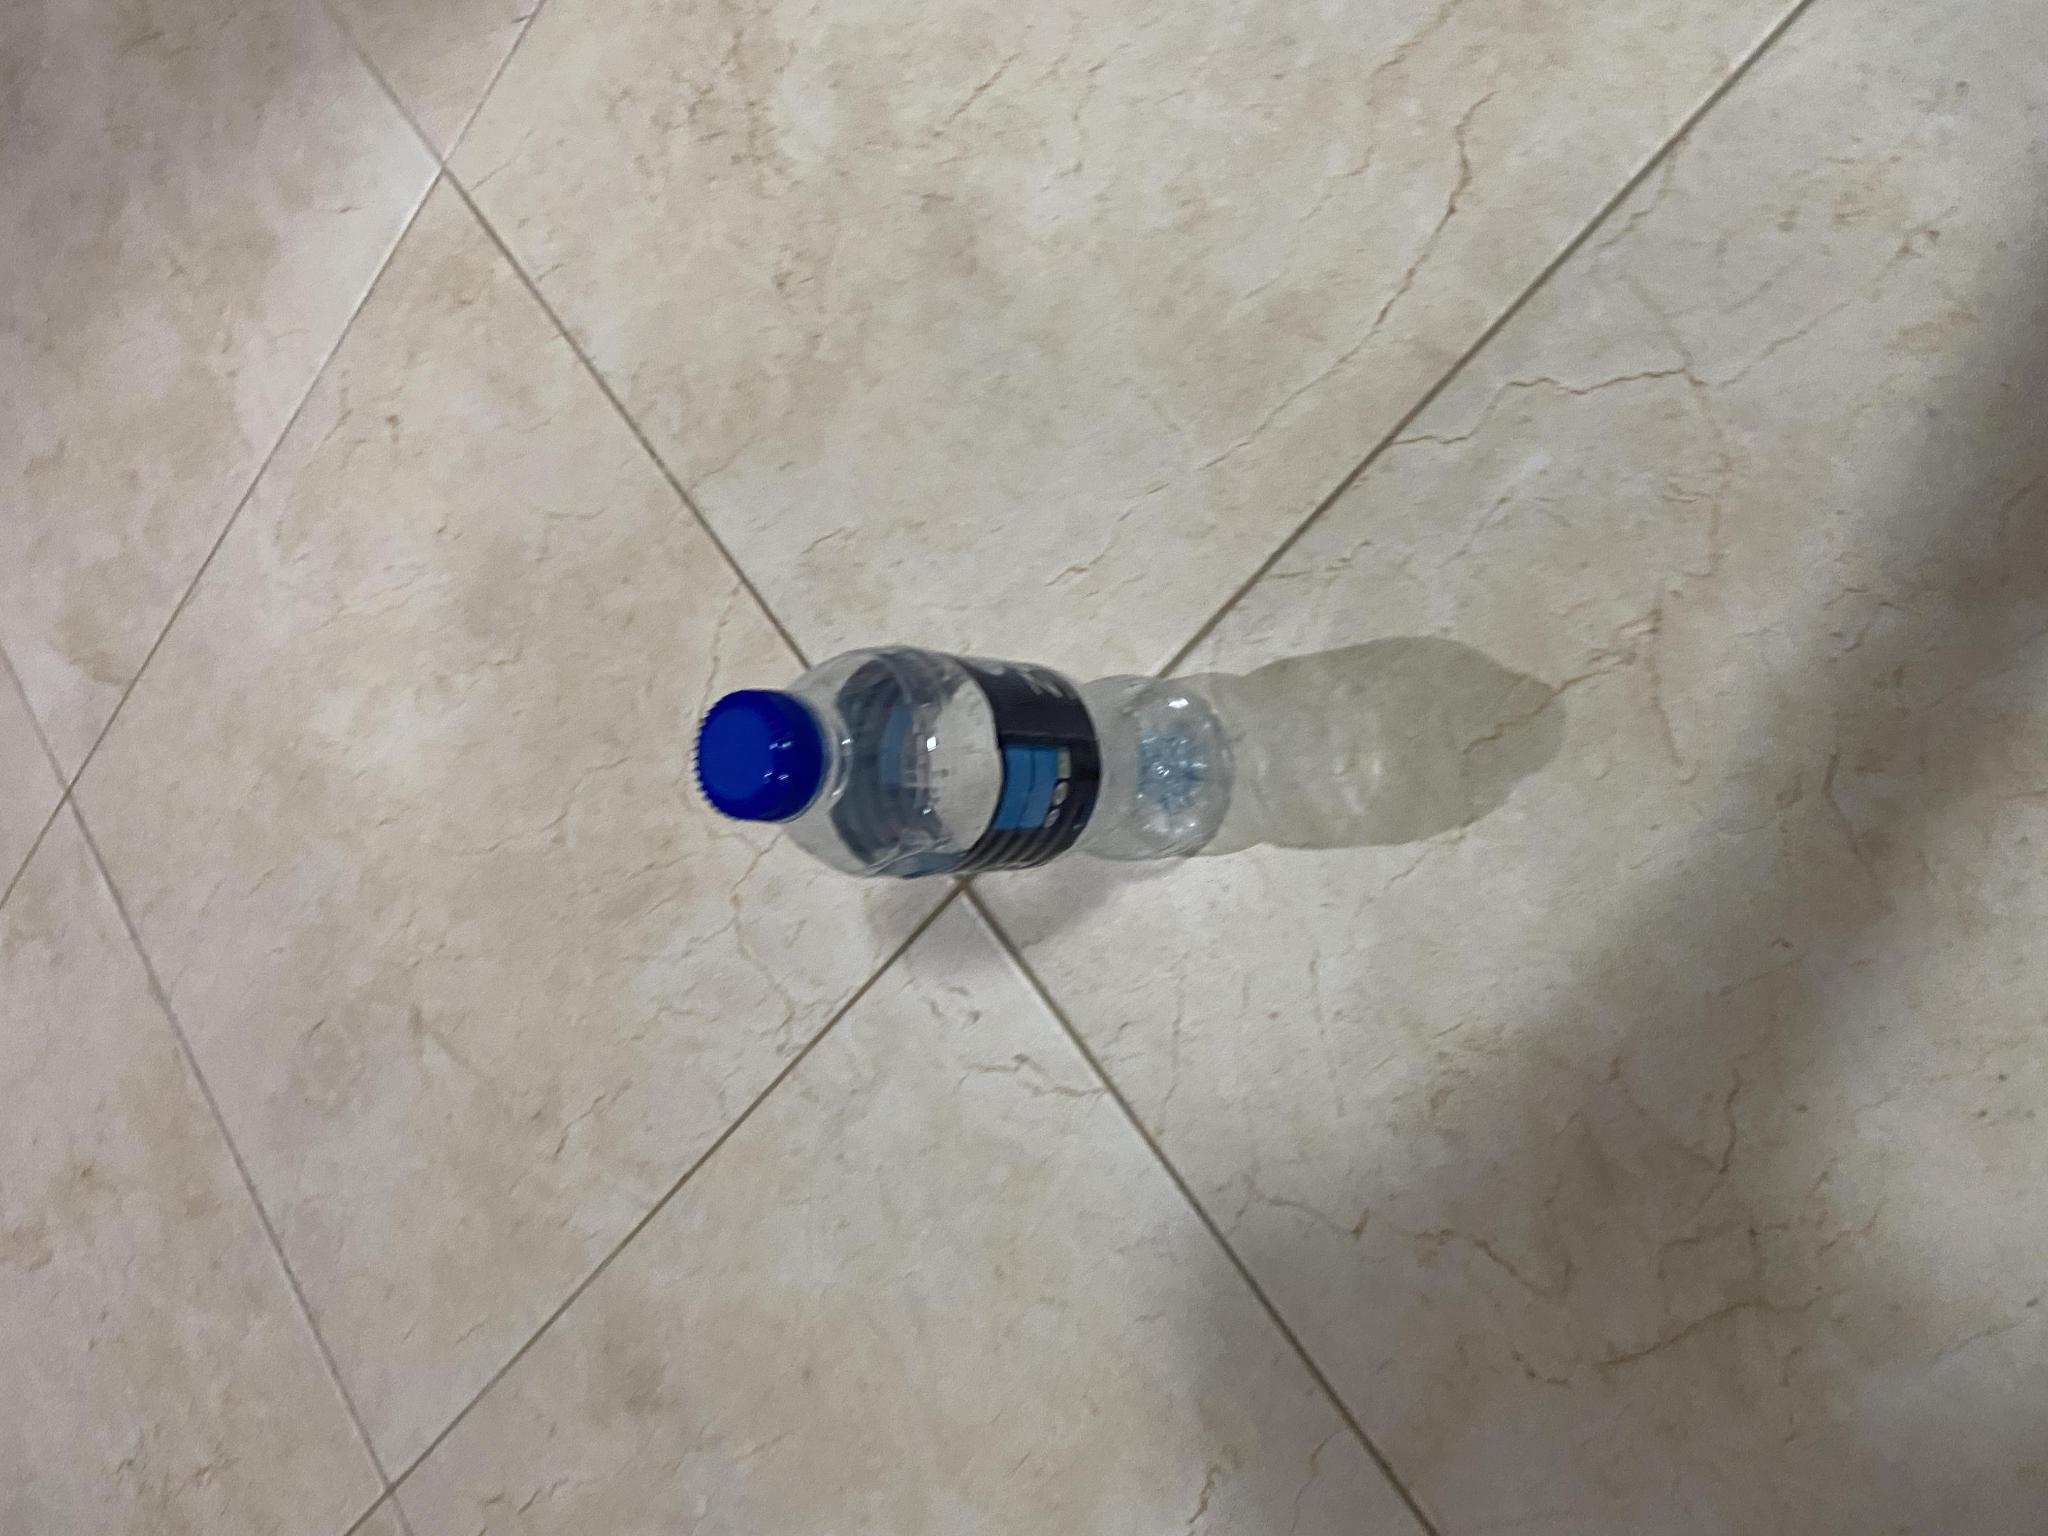bottle: (689, 623, 1226, 887)
